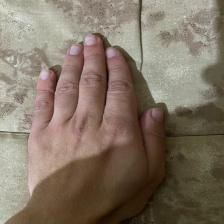five: (30, 33, 172, 207)
